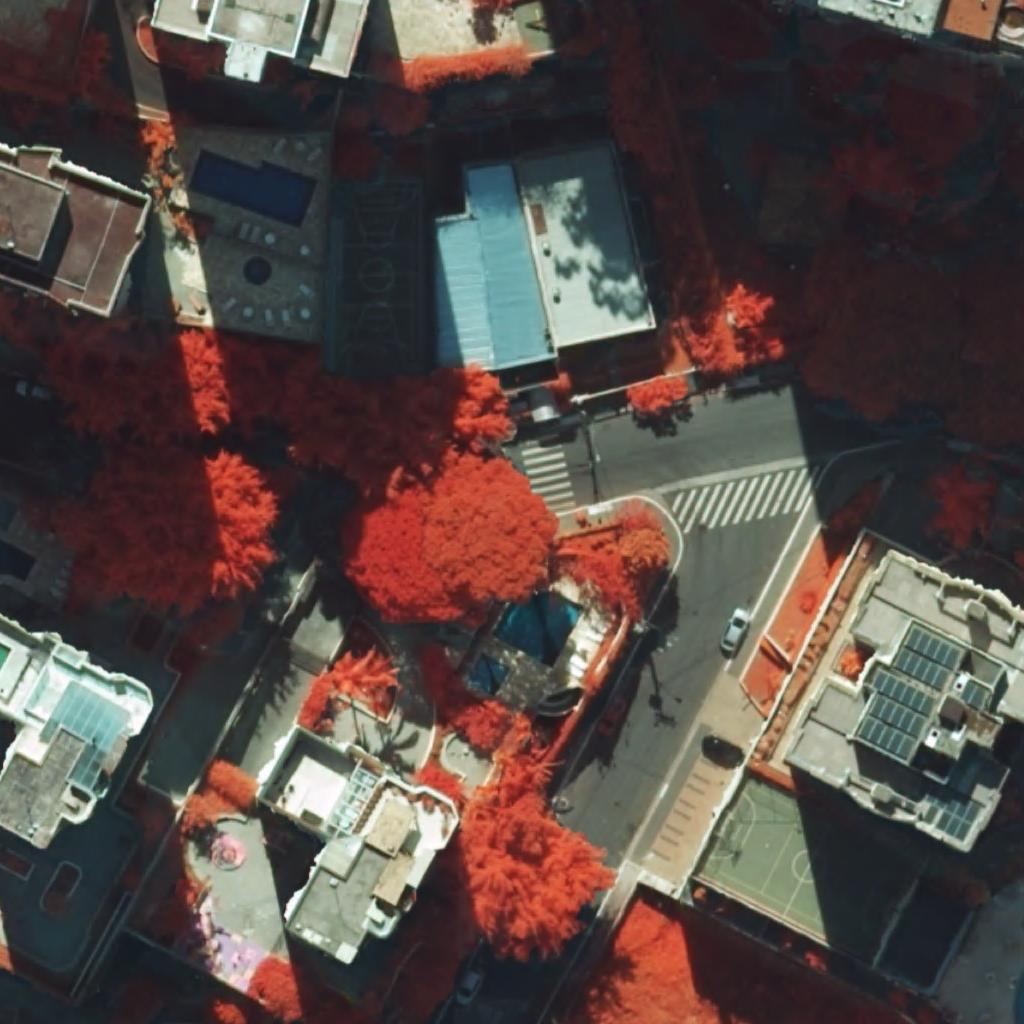pool: (188, 150, 318, 229), (491, 591, 585, 670), (469, 653, 510, 696), (243, 257, 272, 286)
